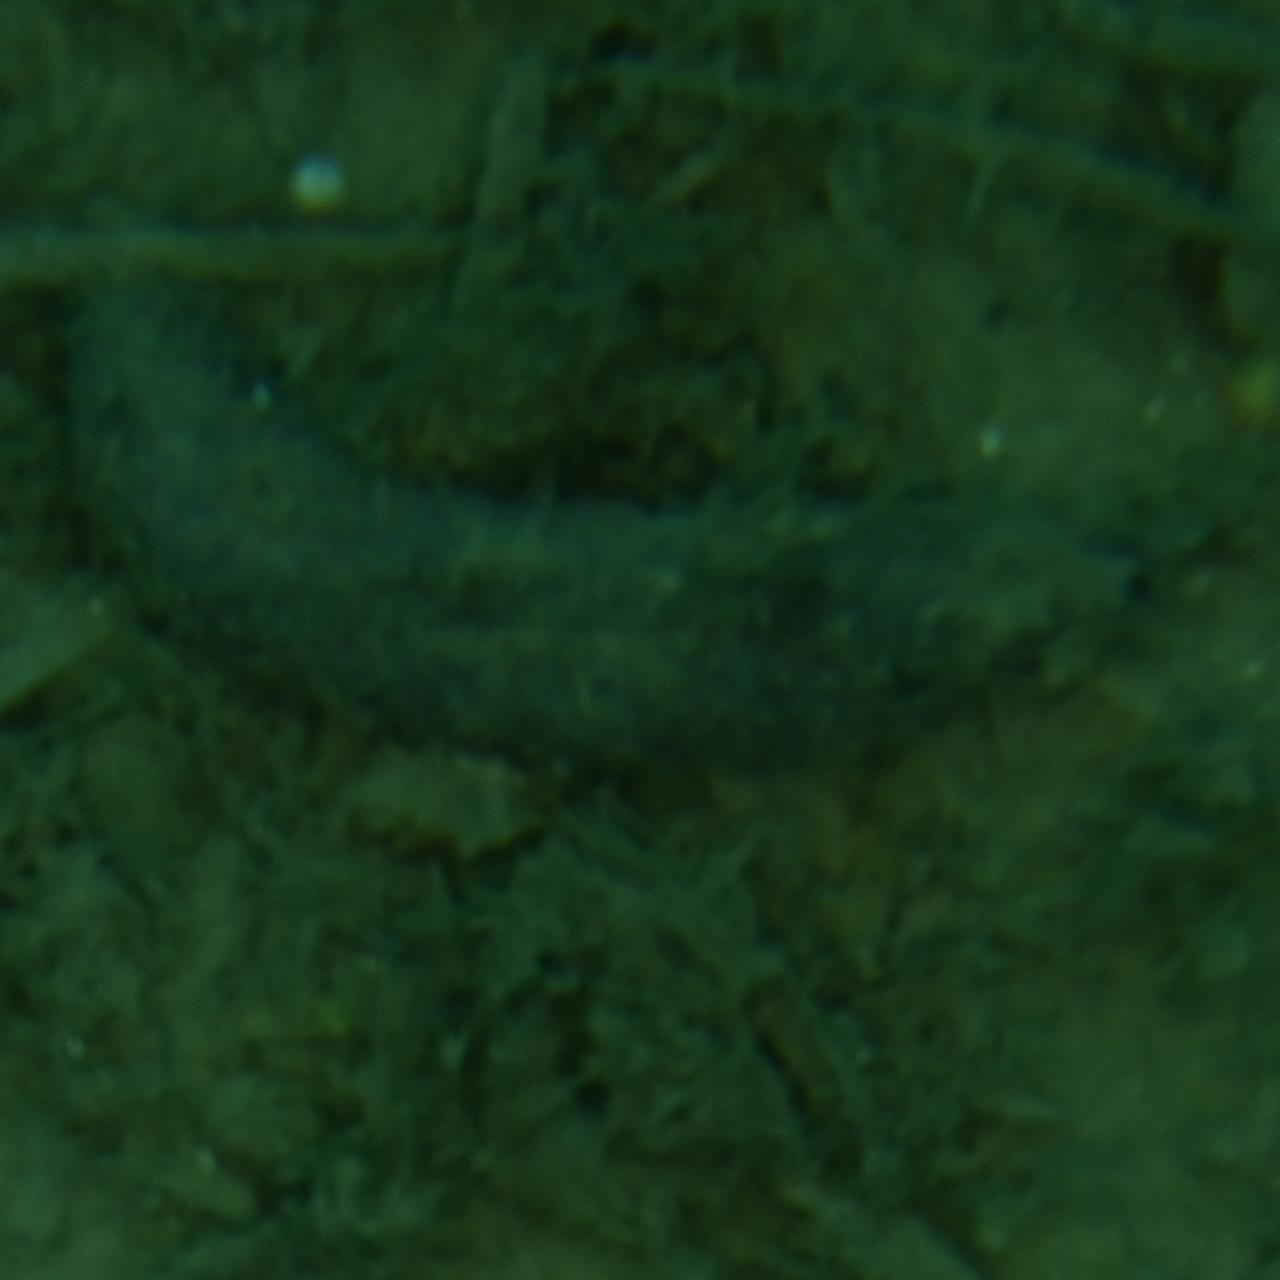Holothuria tubulosa: (42, 190, 1238, 770)
